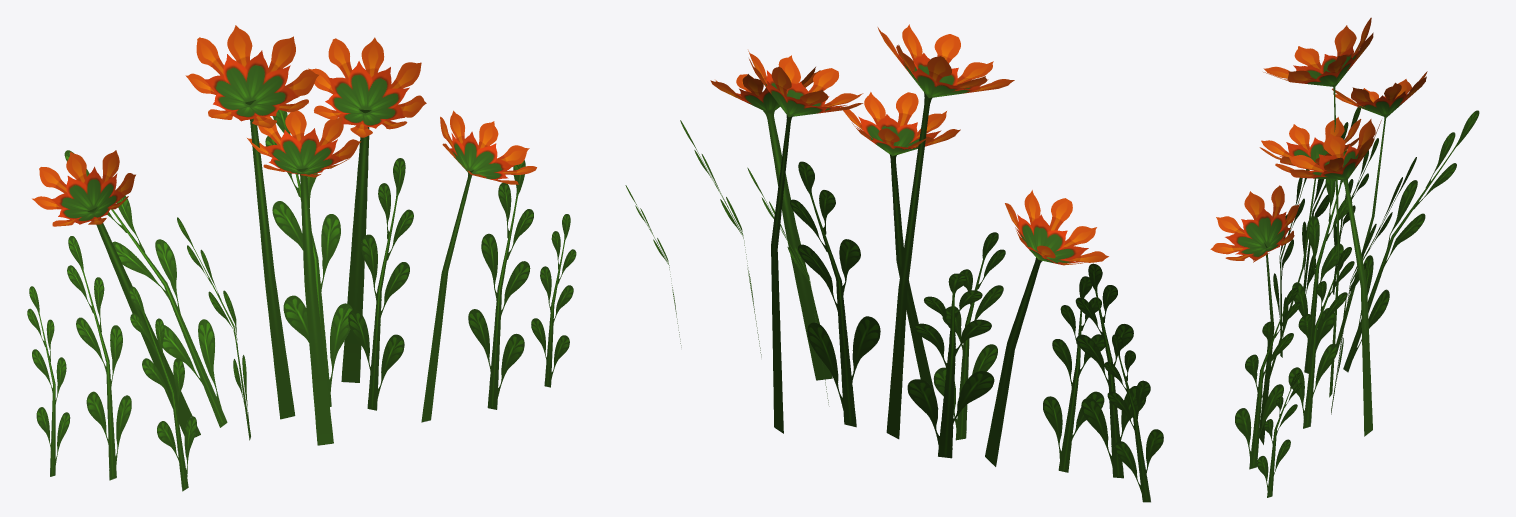
The model's file is Flower_02c.FBX.
The picture shows the model from 3 angles, left to right: view 1: azimuth 30°, elevation 25°; view 2: azimuth 150°, elevation 25°; view 3: azimuth 270°, elevation 25°; orthographic projection. The views are drawn at different scales.
Visible parts, largest first — view 1: Flower_02c; view 2: Flower_02c; view 3: Flower_02c.
Boxes of the visible parts, x1=… form: Flower_02c: x1=27, y1=25, x2=576, y2=491; Flower_02c: x1=625, y1=24, x2=1163, y2=502; Flower_02c: x1=1210, y1=17, x2=1479, y2=497.
Bounding box in the file's own units: 38.62 × 28.85 × 20.42.
1 material, 1 textured.
